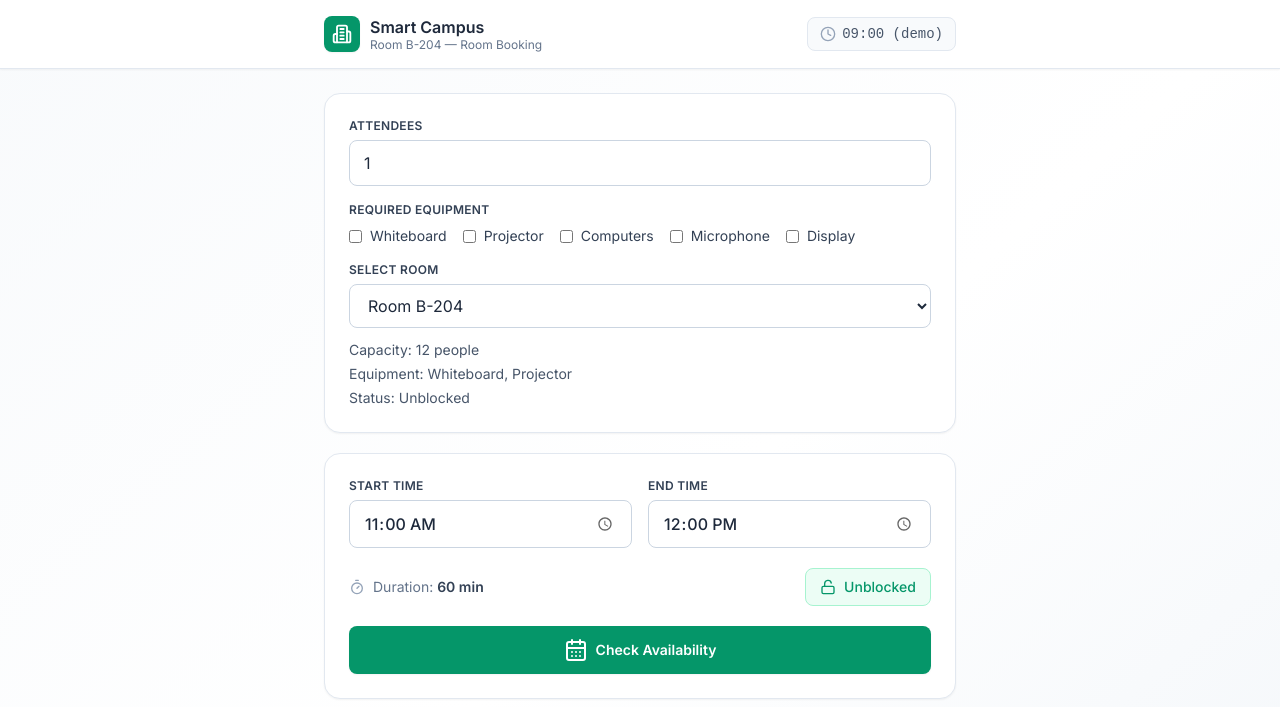
Scenario: Filter and room-switching behavior › rejects invalid attendee input  and removes stale success
Click the button "Check Availability" at {"x": 640, "y": 650}, box [349,626,931,674]
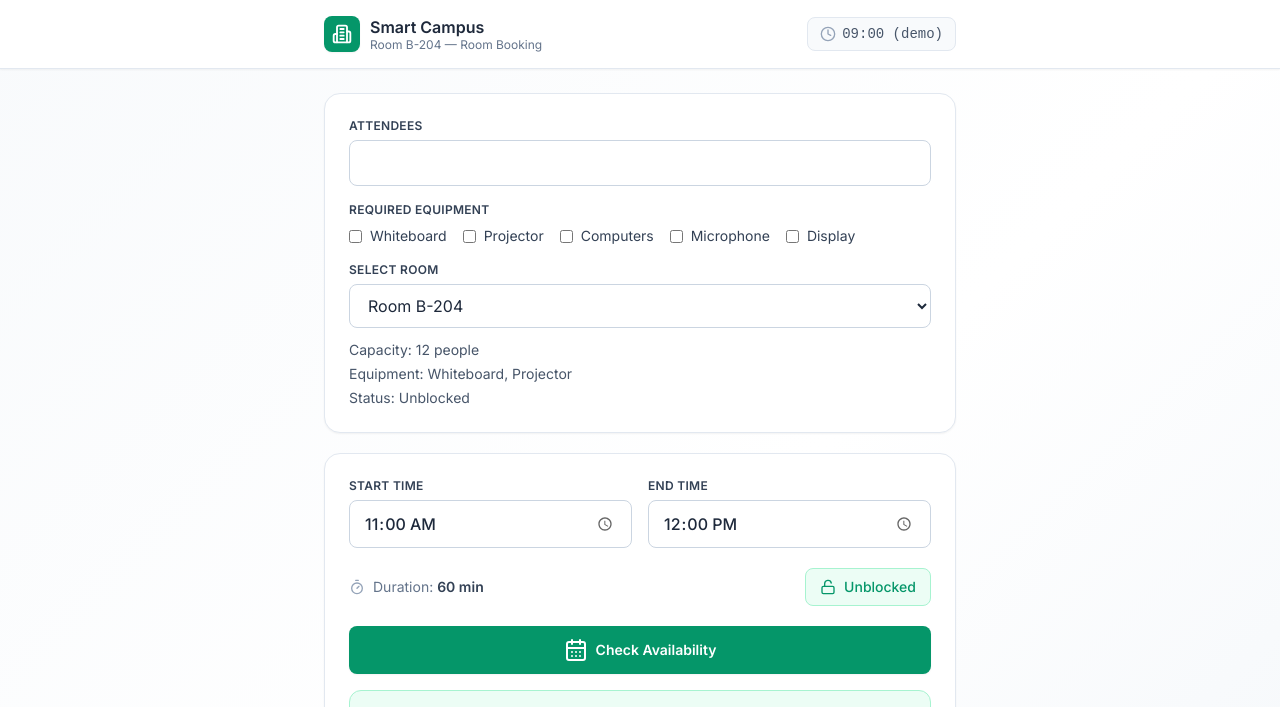
Clear the number field with id "attendees" at {"x": 640, "y": 163}, box [349,140,931,186]
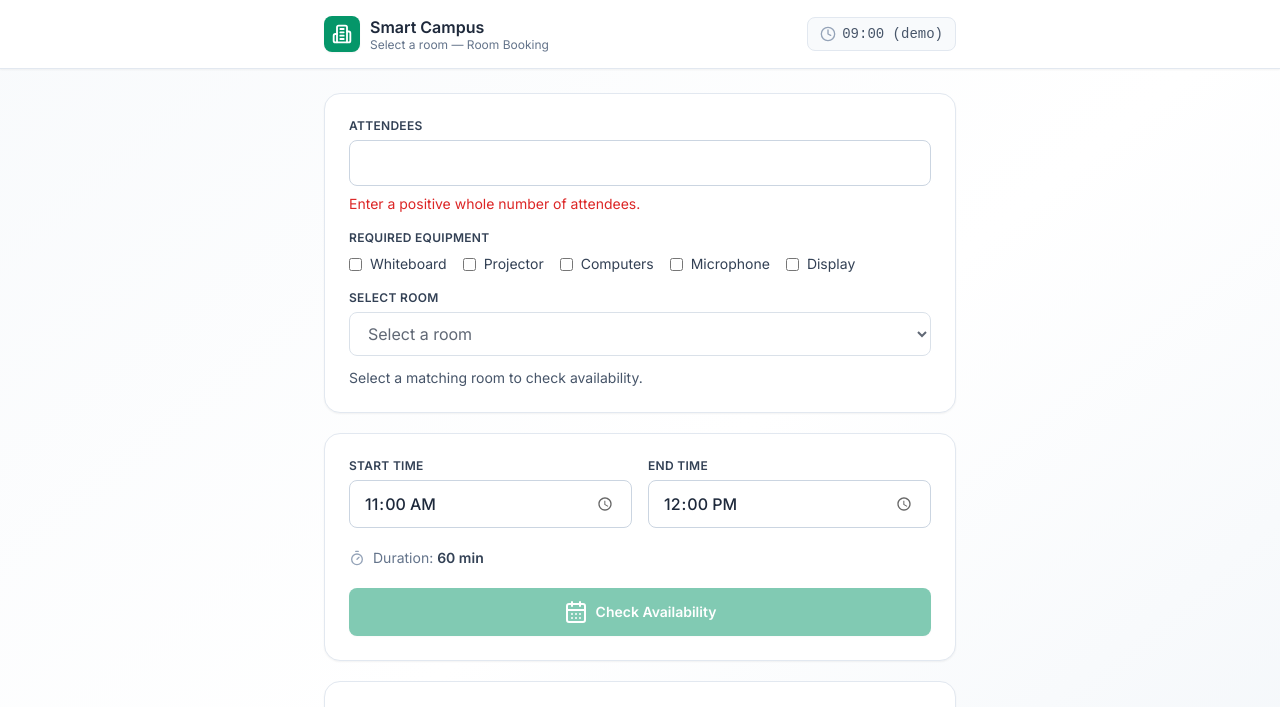
Now the message "Enter a positive whole number of attendees." is shown, box [349,195,640,212]
Now the button "Check Availability" is disabled, box [349,588,931,636]
